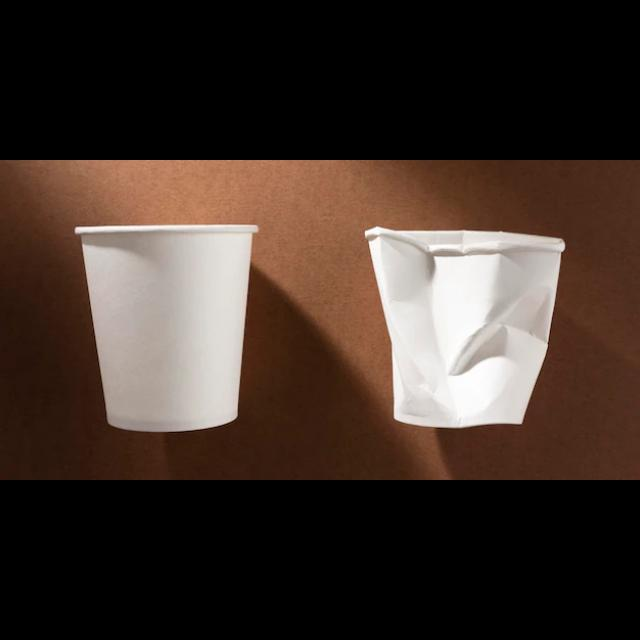trash: (366, 226, 566, 428)
